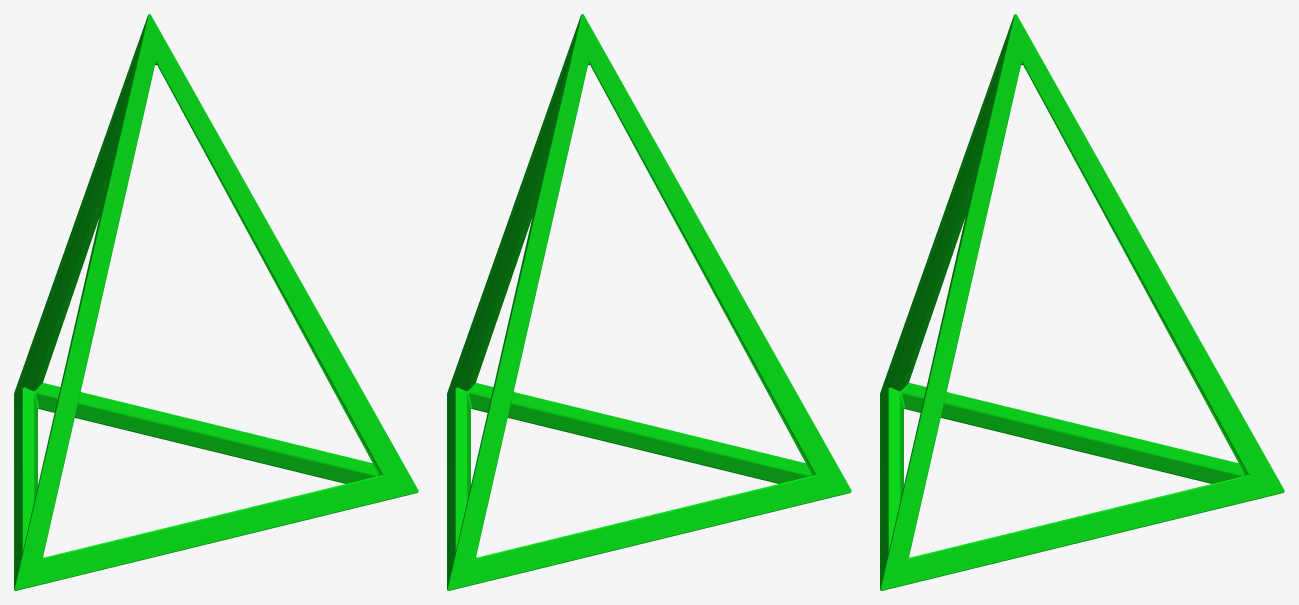
The model's file is cone-green.glb.
3 renders of one model, left to right at view 1: azimuth 30°, elevation 25°; view 2: azimuth 150°, elevation 25°; view 3: azimuth 270°, elevation 25°, orthographic.
Visible parts, largest first — view 1: Cone-green; view 2: Cone-green; view 3: Cone-green.
Part boxes in pixels (<box>): Cone-green: <box>14,14,418,590</box>; Cone-green: <box>447,14,851,590</box>; Cone-green: <box>880,14,1284,590</box>.
Bounding box in the file's own units: 1.86 × 2.1 × 1.61.
